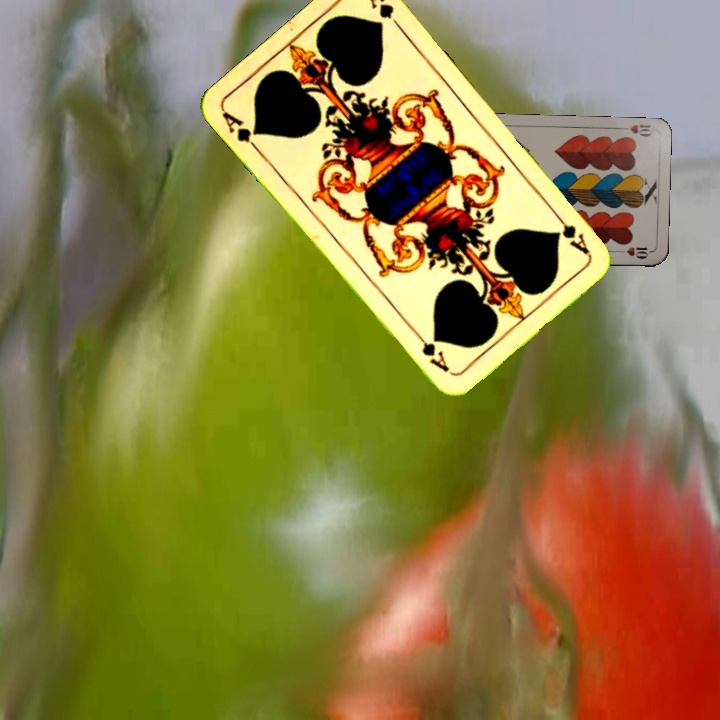GA: (218, 107, 264, 156), (549, 208, 592, 258)
H10: (615, 120, 655, 139)
